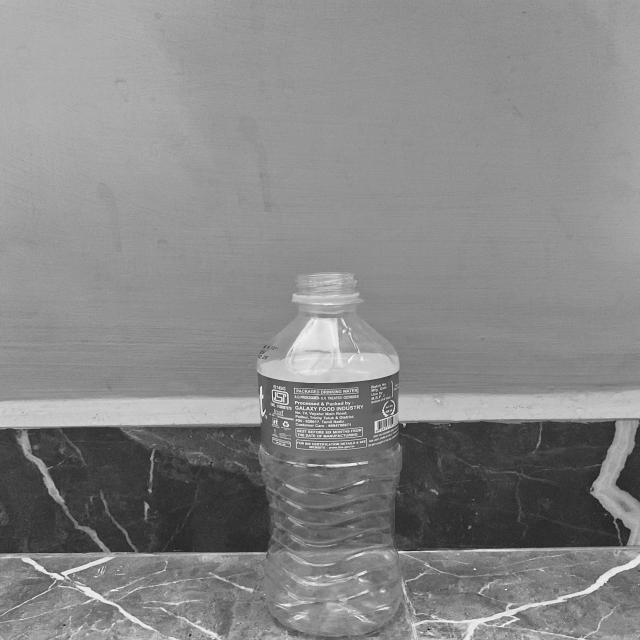open-cap: (293, 274, 362, 306)
